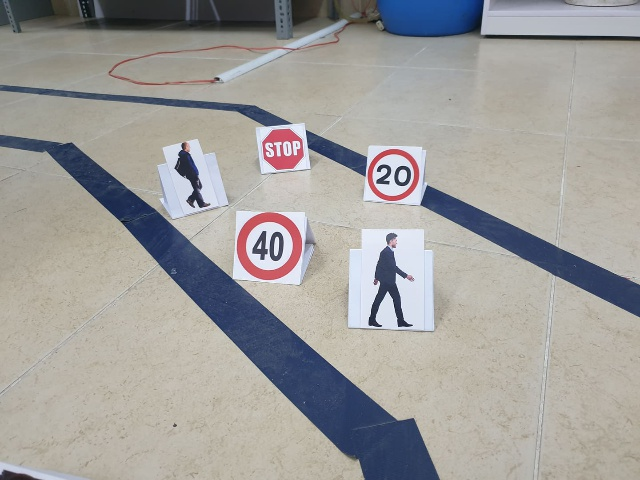Limit 20: (366, 149, 420, 200)
Limit 40: (238, 214, 302, 281)
Person: (363, 231, 417, 327), (165, 142, 213, 207)
Stop: (260, 123, 307, 169)
